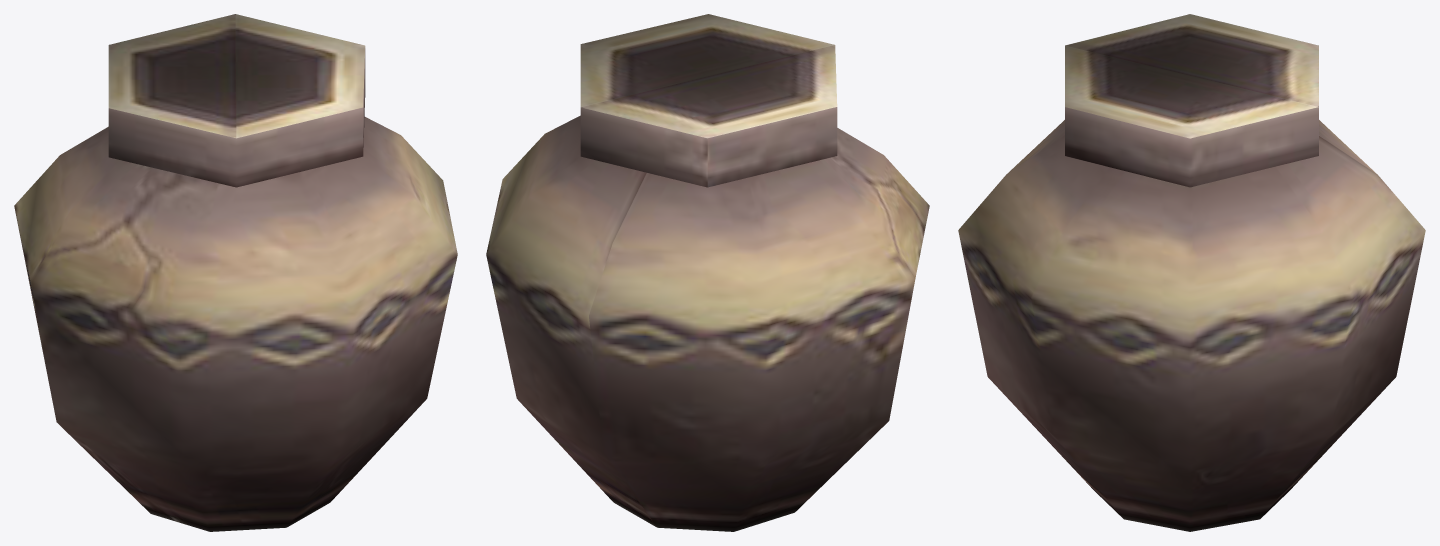
Rendered from jar.glb.
3 views of the same model, side by side, from view 1: azimuth 30°, elevation 25°; view 2: azimuth 150°, elevation 25°; view 3: azimuth 270°, elevation 25° (orthographic).
Parts seen in each view (by area): view 1: untitled.062; view 2: untitled.062; view 3: untitled.062.
Part boxes in pixels (x1,y1,x2,y2): untitled.062: [14, 14, 457, 531]; untitled.062: [486, 14, 929, 531]; untitled.062: [958, 14, 1425, 531].
Size of the model in its own units: 0.7123 by 0.6864 by 0.7028.
1 material, 1 textured.
